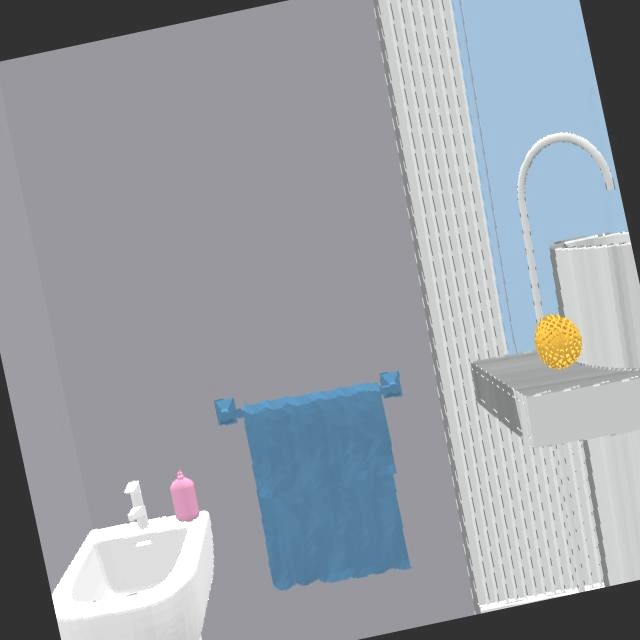washbasin: (51, 512, 216, 640), (518, 132, 612, 319), (550, 232, 640, 368)
